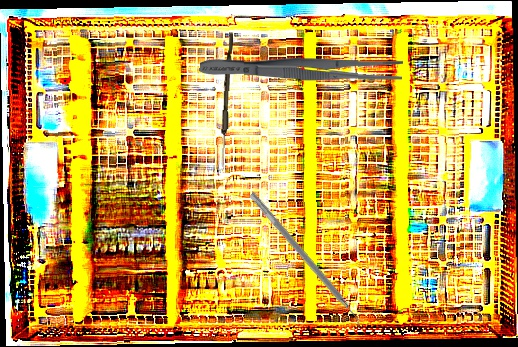Dressing Forceps: (199, 53, 403, 84)
Spatula Surgical: (242, 191, 368, 332)
Surgical Spoon: (219, 33, 234, 168)
